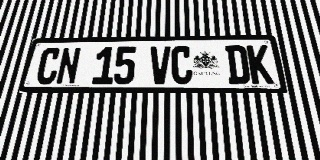1: (92, 47, 116, 84)
5: (113, 47, 136, 84)
C: (34, 48, 62, 85), (171, 46, 193, 84)
D: (225, 45, 251, 84)
K: (246, 45, 274, 84)
N: (55, 47, 81, 85)
V: (149, 46, 170, 84)
